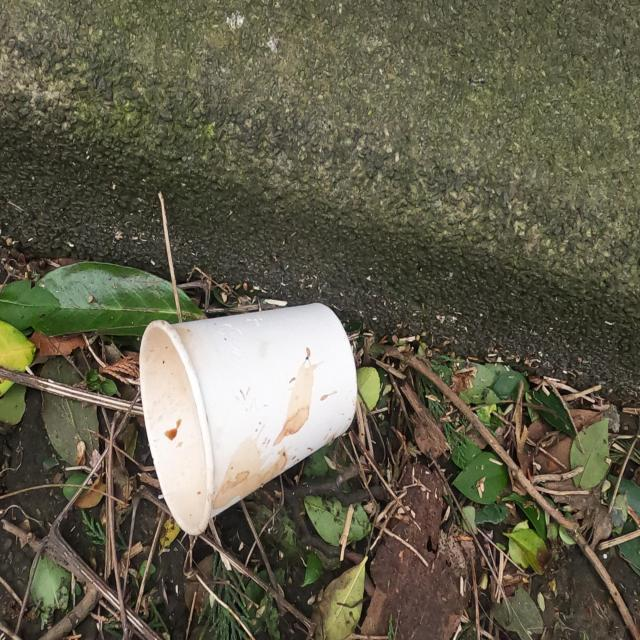Cup: (136, 301, 359, 538)
